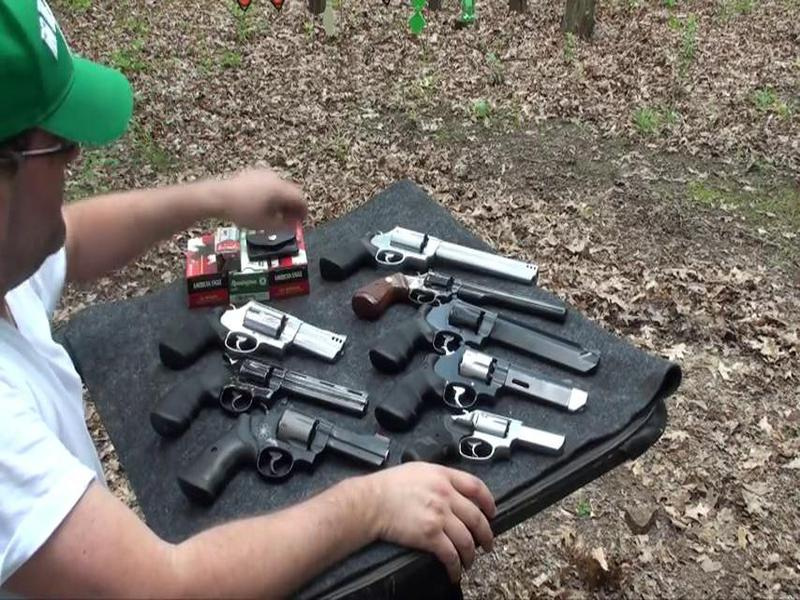Revolver: (367, 341, 589, 430)
